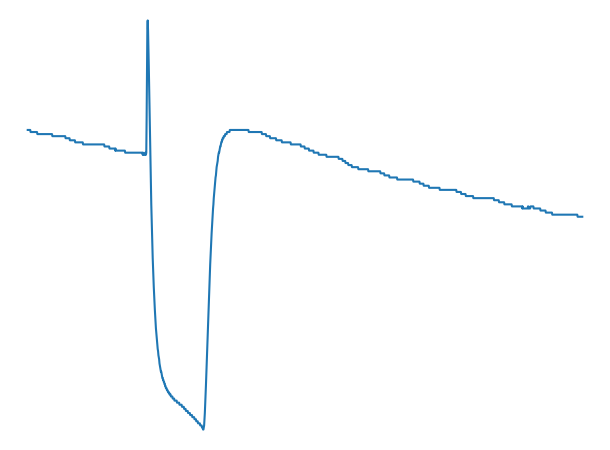decrease: (119, 7, 167, 171)
increase: (189, 394, 217, 434)
